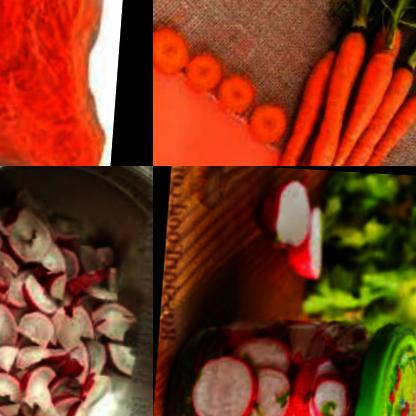carrot: (276, 25, 416, 166), (0, 0, 112, 166), (252, 90, 297, 146), (153, 22, 198, 78), (188, 48, 229, 94), (219, 70, 260, 114)
rediska: (0, 168, 153, 416), (187, 322, 369, 416), (284, 198, 340, 287), (261, 177, 320, 245)
salad: (334, 168, 416, 335)
